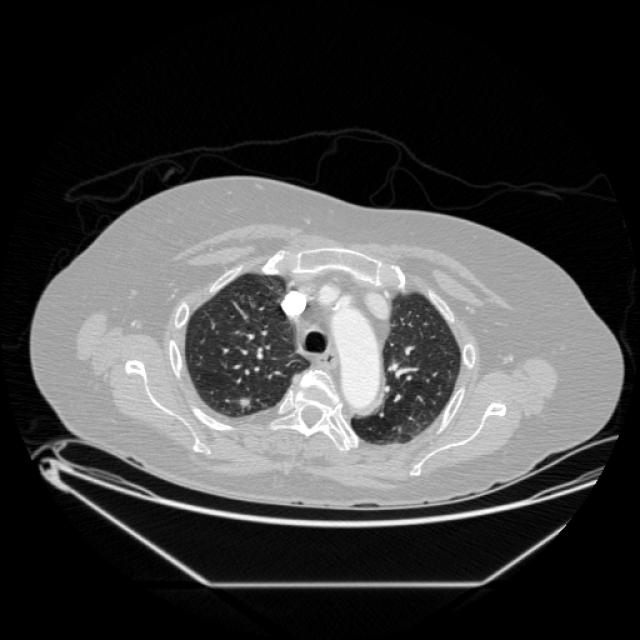nodule: (230, 387, 258, 415)
